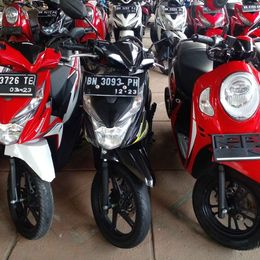plate: (81, 73, 140, 97)
